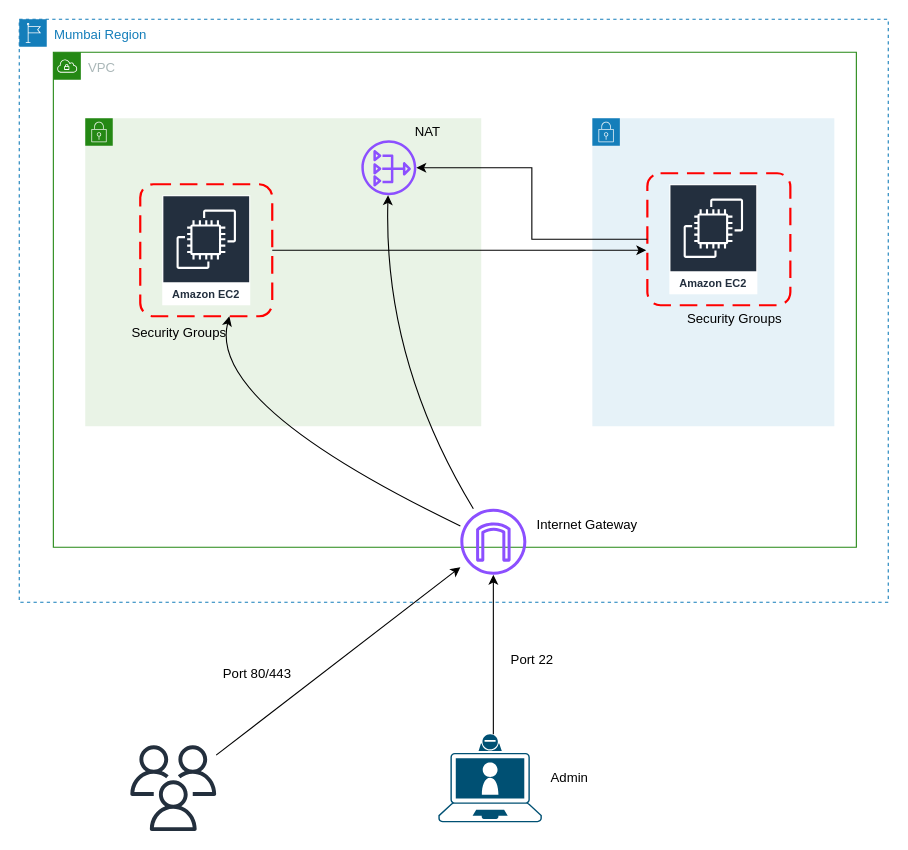
This 908x850 diagram has some shape labels left out. The shapes that lost their labels are listed below. From the top down, each one's box as (x1, y1, x2, y2) in pixels, then its label:
(84, 117, 481, 426): Public subnet
(591, 117, 834, 426): Private subnet
